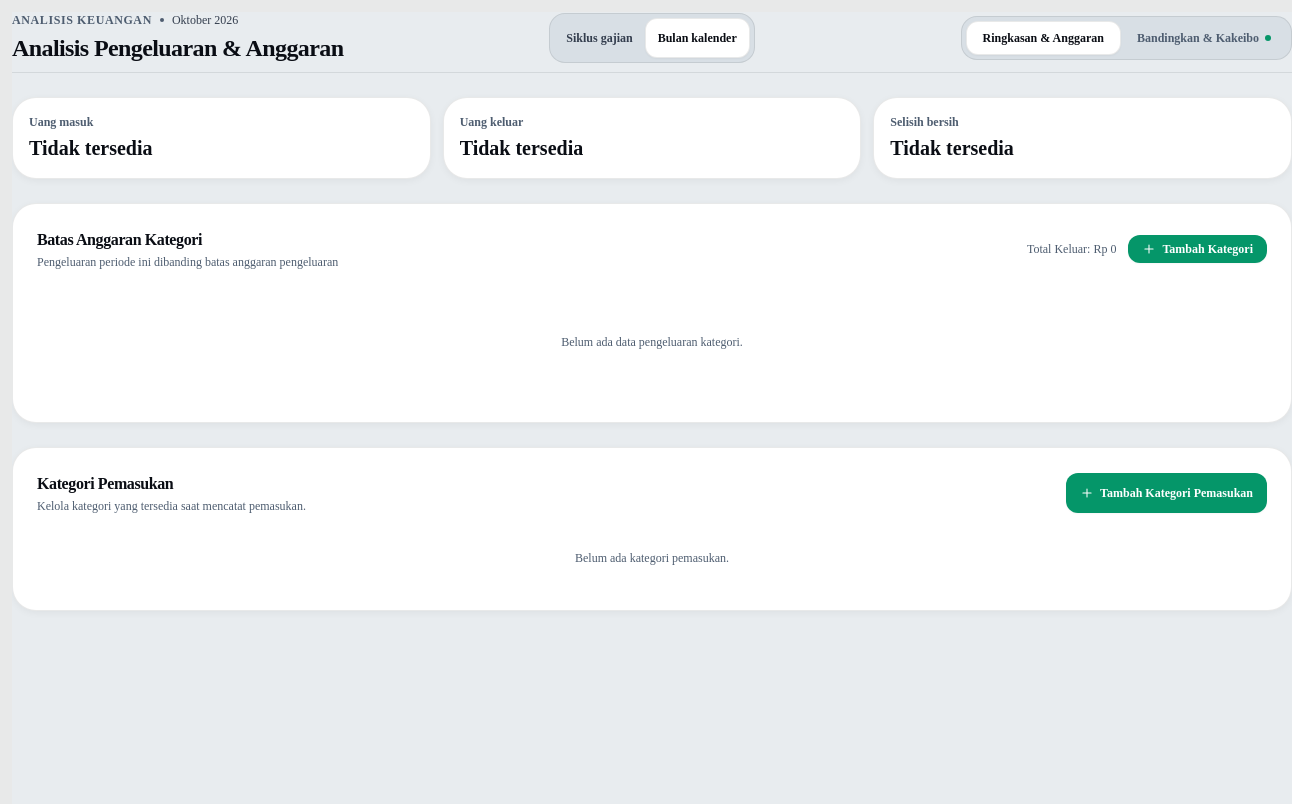
Test: observed insights › says so when the previous period has no data
The width and height of the screenshot is (1292, 804).
Click the button "Bandingkan & Kakeibo" at (1204, 38), box [1121,22,1287,54]
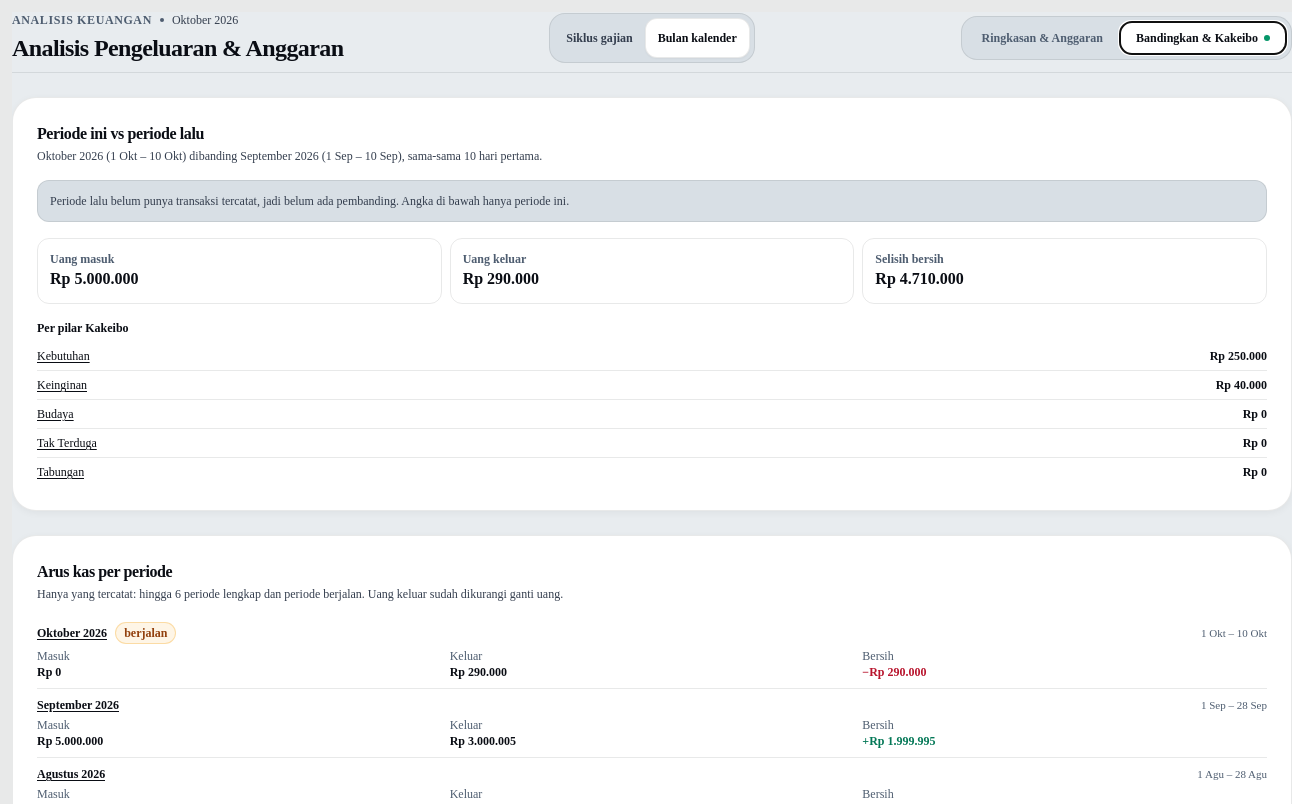
Now the text "Periode lalu belum punya transaksi tercatat" is shown, box [50,194,569,208]
